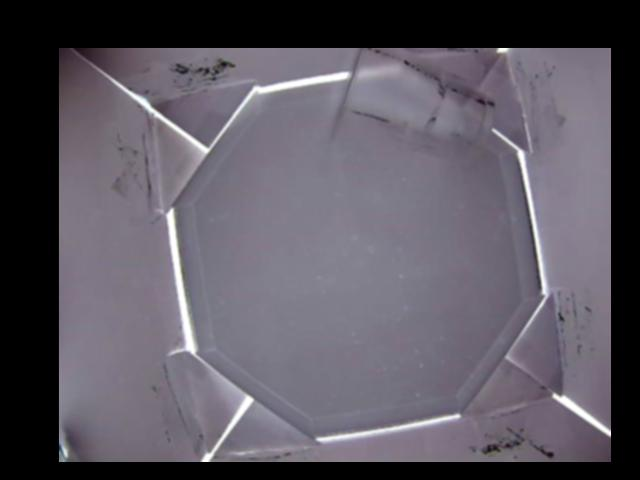Cup: (329, 48, 495, 164)
